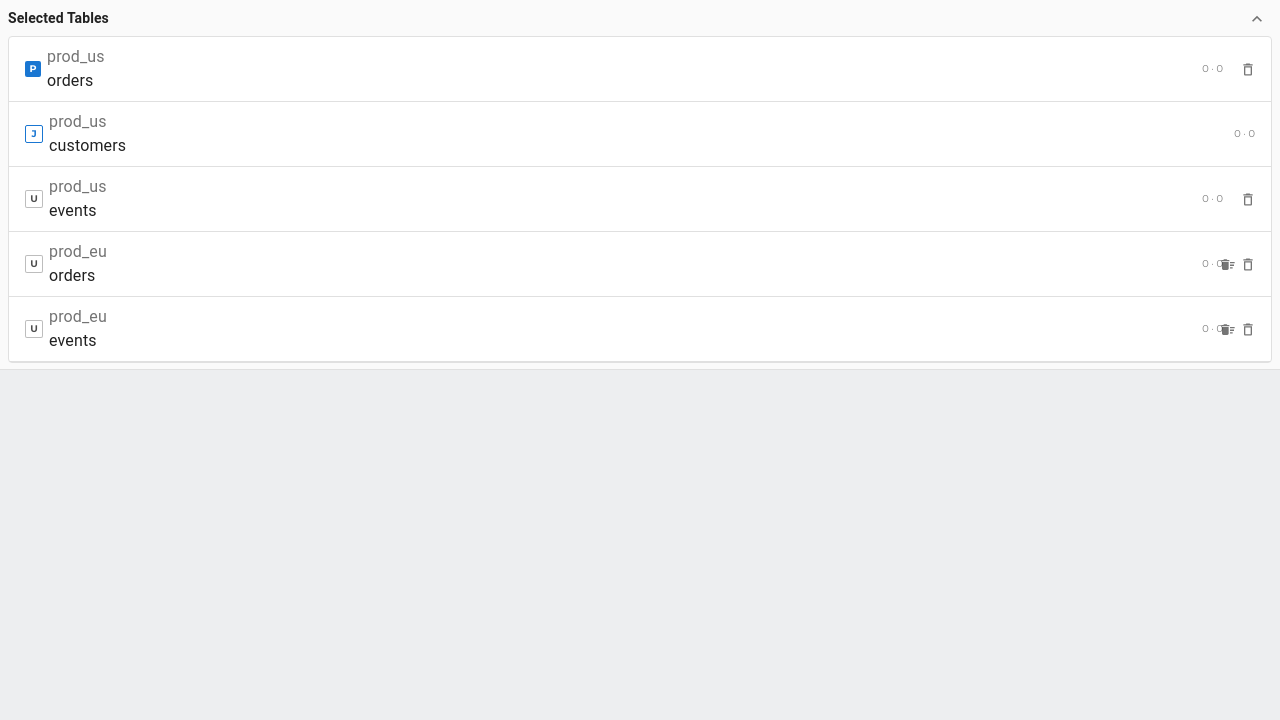
Test: SelectedTablesList — removing the primary table › spells out everything else that goes with it
Click the button named "Remove prod_us.orders" at (1248, 70), box [1238,60,1258,80]
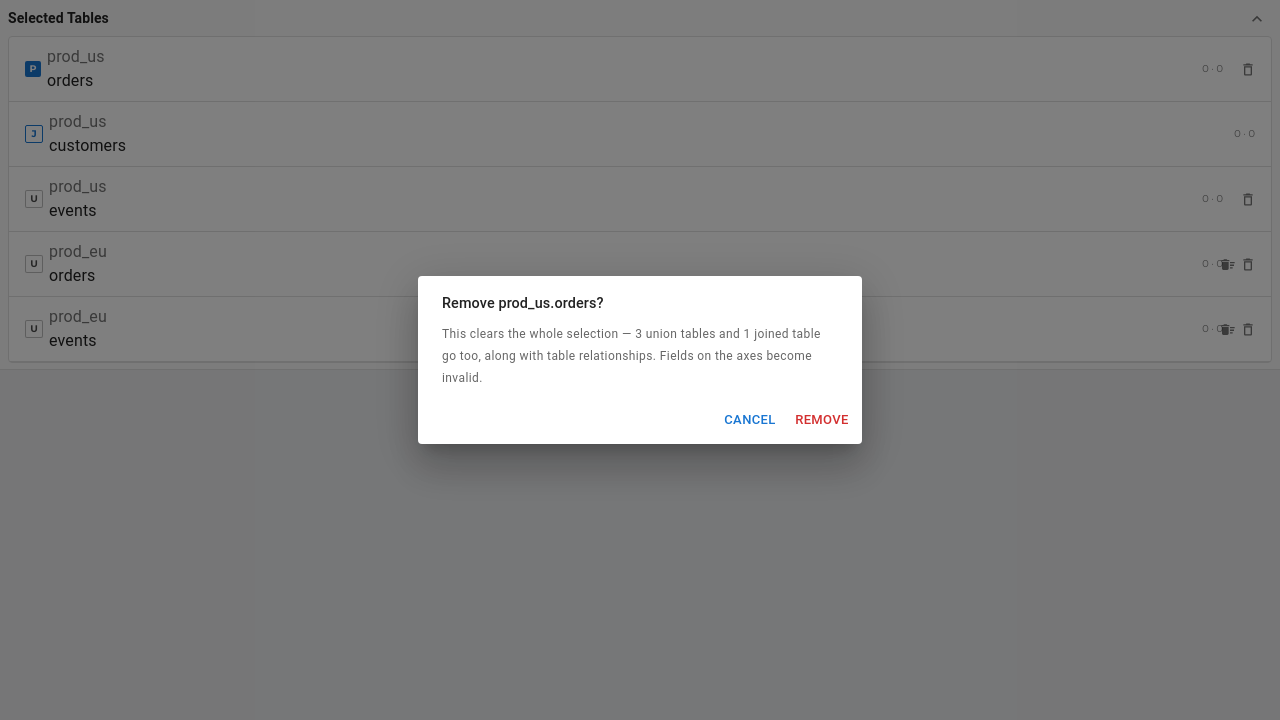
Now the text "3 union tables and 1 joined table go too" is shown, box [442,327,821,385]
